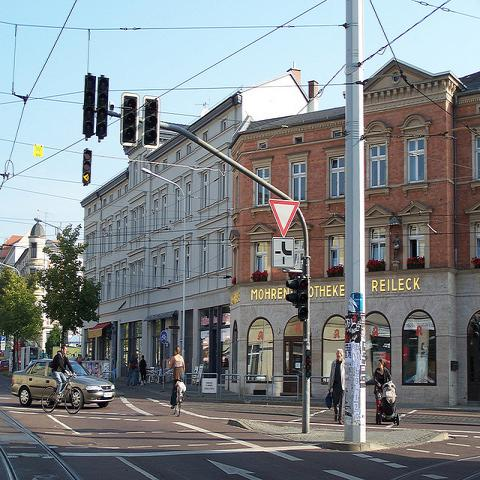car: (12, 359, 116, 409)
